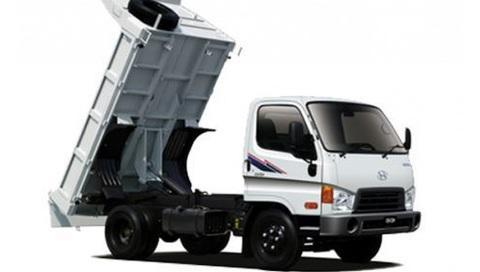truck: (43, 0, 424, 266)
